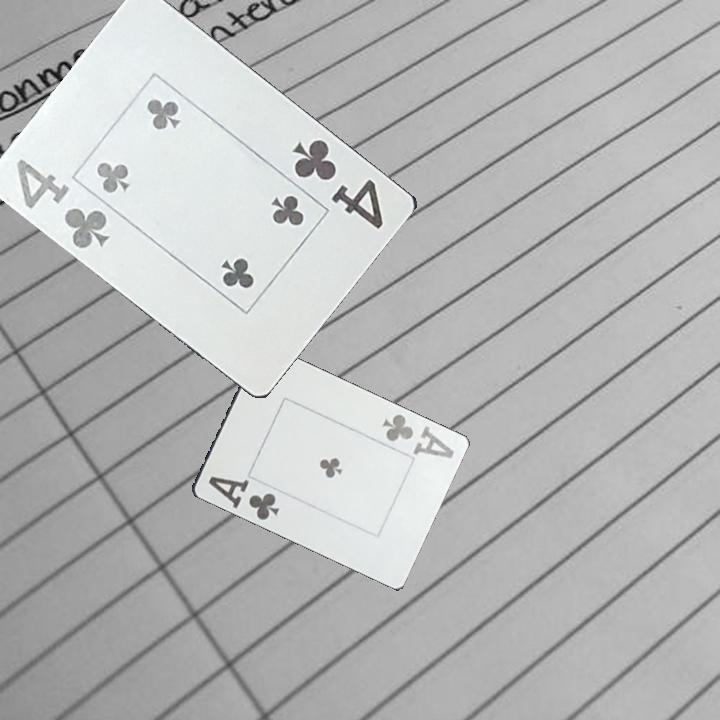4c: (13, 155, 114, 252), (289, 135, 388, 232)
Ac: (204, 473, 282, 525), (378, 411, 457, 462)
